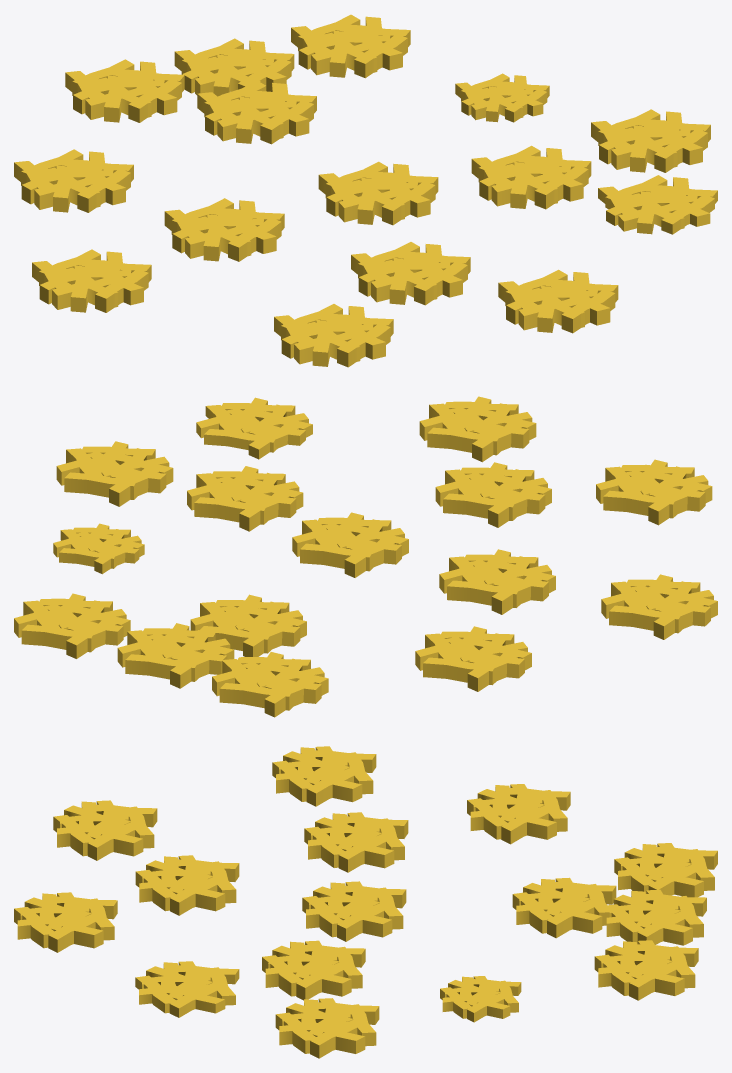
The model's file is cheese.glb.
3 renders of one model, top to bottom at view 1: azimuth 30°, elevation 25°; view 2: azimuth 150°, elevation 25°; view 3: azimuth 270°, elevation 25°, orthographic. The views are drawn at different scales.
Visible parts, largest first — view 1: Cheese_Cheese_CheeseMat_0.011, Cheese_Cheese_CheeseMat_0, Cheese_Cheese_CheeseMat_0.005, Cheese_Cheese_CheeseMat_0.006, Cheese_Cheese_CheeseMat_0.009, Cheese_Cheese_CheeseMat_0.007, Cheese_Cheese_CheeseMat_0.010, Cheese_Cheese_CheeseMat_0.002, Cheese_Cheese1_CheeseMat_0, Cheese_Cheese_CheeseMat_0.001, Cheese_Cheese_CheeseMat_0.004, Cheese_Cheese_CheeseMat_0.003 (+3 smaller); view 2: Cheese_Cheese_CheeseMat_0.003, Cheese_Cheese_CheeseMat_0.005, Cheese_Cheese_CheeseMat_0.011, Cheese_Cheese1_CheeseMat_0, Cheese_Cheese_CheeseMat_0.002, Cheese_Cheese_CheeseMat_0, Cheese_Cheese_CheeseMat_0.006, Cheese_Cheese_CheeseMat_0.001, Cheese_Cheese_CheeseMat_0.009, Cheese_Cheese_CheeseMat_0.007, Cheese_Cheese_CheeseMat_0.010, Cheese_Cheese_CheeseMat_0.008 (+3 smaller); view 3: Cheese_Cheese_CheeseMat_0, Cheese_Cheese_CheeseMat_0.007, Cheese_Cheese_CheeseMat_0.003, Cheese_Cheese1_CheeseMat_0, Cheese_Cheese_CheeseMat_0.009, Cheese_Cheese_CheeseMat_0.002, Cheese_Cheese_CheeseMat_0.001, Cheese_Cheese_CheeseMat_0.011, Cheese_Cheese_CheeseMat_0.005, Cheese_Cheese_CheeseMat_0.006, Cheese_Cheese_CheeseMat_0.004, Cheese_Cheese_CheeseMat_0.008 (+3 smaller).
Boxes of the visible parts, box(x1,y1,x2,y2) form: Cheese_Cheese_CheeseMat_0.011: box(471, 145, 591, 209); Cheese_Cheese_CheeseMat_0: box(318, 161, 438, 225); Cheese_Cheese_CheeseMat_0.005: box(498, 269, 618, 333); Cheese_Cheese_CheeseMat_0.006: box(164, 198, 284, 261); Cheese_Cheese_CheeseMat_0.009: box(291, 14, 410, 78); Cheese_Cheese_CheeseMat_0.007: box(274, 304, 393, 367); Cheese_Cheese_CheeseMat_0.010: box(65, 59, 184, 122); Cheese_Cheese_CheeseMat_0.002: box(351, 242, 470, 305); Cheese_Cheese1_CheeseMat_0: box(32, 249, 151, 312); Cheese_Cheese_CheeseMat_0.001: box(14, 149, 133, 212); Cheese_Cheese_CheeseMat_0.004: box(197, 81, 316, 144); Cheese_Cheese_CheeseMat_0.003: box(591, 109, 710, 172); Cheese_Cheese_CheeseMat_0.003: box(56, 441, 173, 506); Cheese_Cheese_CheeseMat_0.005: box(419, 396, 536, 462); Cheese_Cheese_CheeseMat_0.011: box(187, 466, 303, 531); Cheese_Cheese1_CheeseMat_0: box(601, 574, 717, 639); Cheese_Cheese_CheeseMat_0.002: box(435, 462, 551, 527); Cheese_Cheese_CheeseMat_0: box(292, 512, 408, 577); Cheese_Cheese_CheeseMat_0.006: box(439, 549, 555, 614); Cheese_Cheese_CheeseMat_0.001: box(415, 626, 531, 691); Cheese_Cheese_CheeseMat_0.009: box(14, 593, 130, 658); Cheese_Cheese_CheeseMat_0.007: box(596, 459, 712, 525); Cheese_Cheese_CheeseMat_0.010: box(212, 652, 328, 717); Cheese_Cheese_CheeseMat_0.008: box(117, 623, 234, 688); Cheese_Cheese_CheeseMat_0: box(302, 881, 406, 941); Cheese_Cheese_CheeseMat_0.007: box(53, 800, 157, 860); Cheese_Cheese_CheeseMat_0.003: box(275, 998, 379, 1058); Cheese_Cheese1_CheeseMat_0: box(272, 746, 376, 806); Cheese_Cheese_CheeseMat_0.009: box(594, 940, 698, 1000); Cheese_Cheese_CheeseMat_0.002: box(135, 855, 239, 915); Cheese_Cheese_CheeseMat_0.001: box(467, 784, 570, 844); Cheese_Cheese_CheeseMat_0.011: box(262, 940, 365, 1000); Cheese_Cheese_CheeseMat_0.005: box(14, 892, 117, 952); Cheese_Cheese_CheeseMat_0.006: box(304, 812, 408, 872); Cheese_Cheese_CheeseMat_0.004: box(512, 877, 616, 938); Cheese_Cheese_CheeseMat_0.008: box(603, 889, 706, 945).
Size of the model in its own units: 1.95 by 0.0634 by 1.92.
